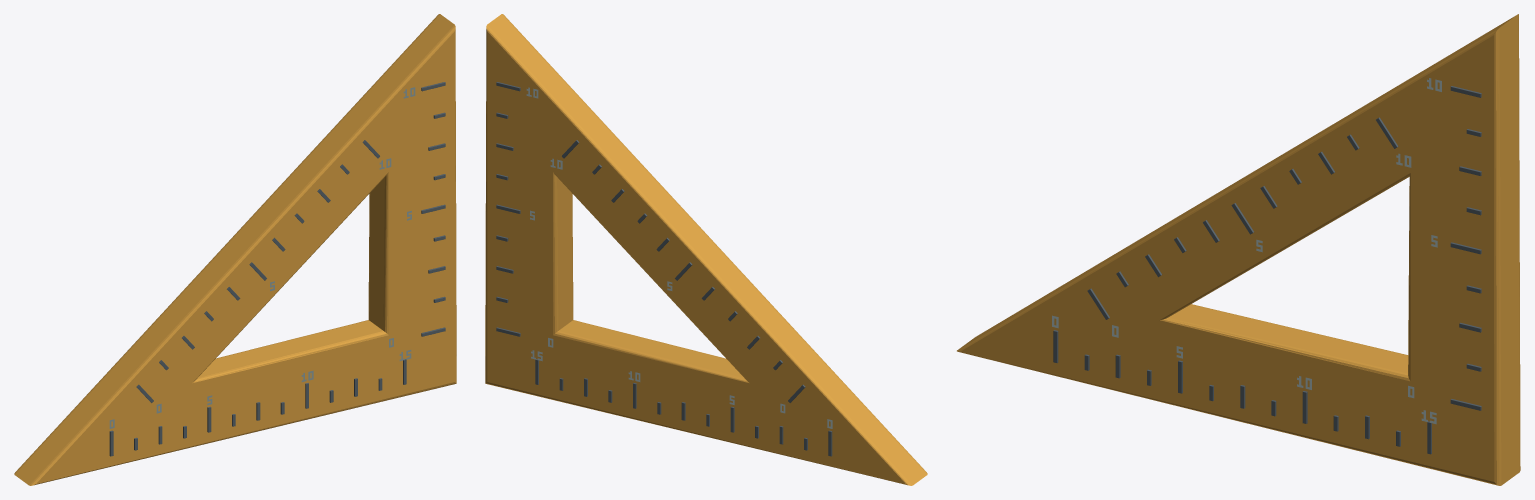
File: editor-source.glb
The picture shows the model from 3 angles, left to right: view 1: azimuth 30°, elevation 25°; view 2: azimuth 150°, elevation 25°; view 3: azimuth 330°, elevation 25°; orthographic projection. The views are drawn at different scales.
Parts seen in each view (by area): view 1: brass, steelInset; view 2: brass, steelInset; view 3: brass, steelInset.
Part boxes in pixels (bbox=[...]): brass: bbox=[14, 14, 456, 485]; steelInset: bbox=[109, 82, 445, 456]; brass: bbox=[485, 14, 927, 485]; steelInset: bbox=[496, 82, 832, 456]; brass: bbox=[957, 14, 1520, 485]; steelInset: bbox=[1053, 86, 1481, 454].
Size of the model in its own units: 0.3058 by 0.2457 by 0.0253.
